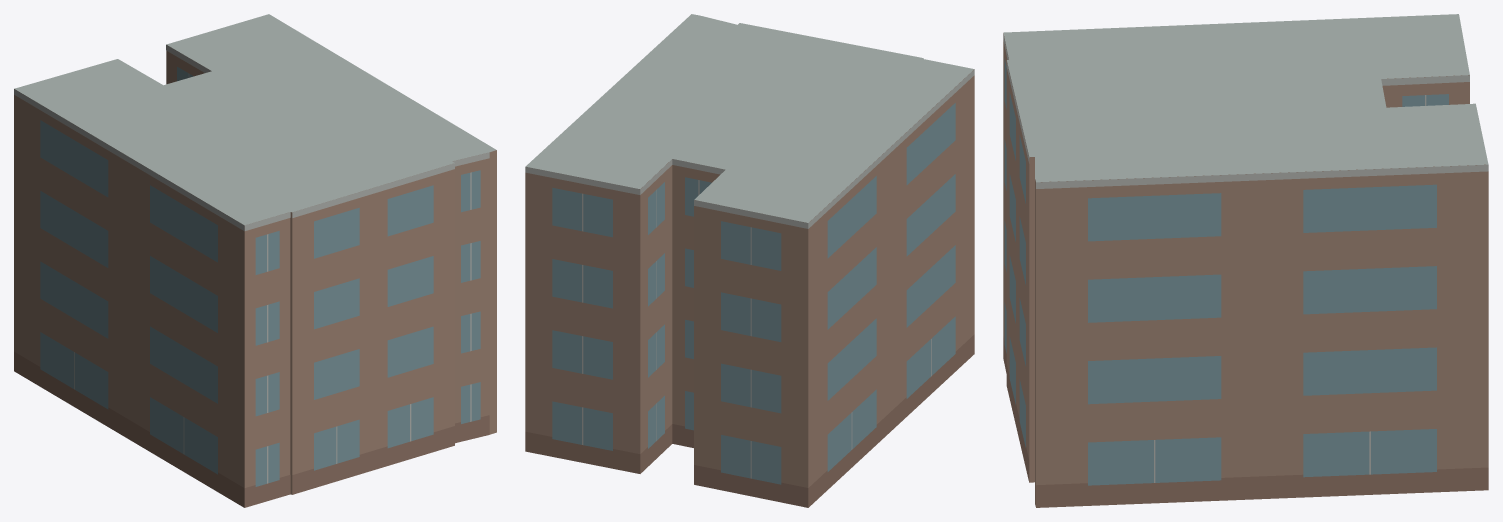
The model's file is survey-upis-32781169.glb.
3 views of the same model, side by side, from view 1: azimuth 30°, elevation 25°; view 2: azimuth 150°, elevation 25°; view 3: azimuth 270°, elevation 25° (orthographic). The views are drawn at different scales.
Visible parts, largest first — view 1: survey-upis-32781169.tmp; view 2: survey-upis-32781169.tmp; view 3: survey-upis-32781169.tmp.
Part boxes in pixels (left/top/right/bottom): survey-upis-32781169.tmp: left=14, top=14, right=496, bottom=507; survey-upis-32781169.tmp: left=525, top=14, right=974, bottom=507; survey-upis-32781169.tmp: left=1003, top=14, right=1488, bottom=507.
Size of the model in its own units: 12.87 by 11.6 by 15.68.
